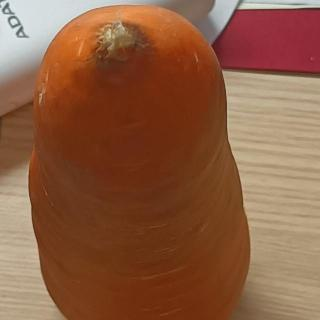carrot: (23, 0, 255, 320)
